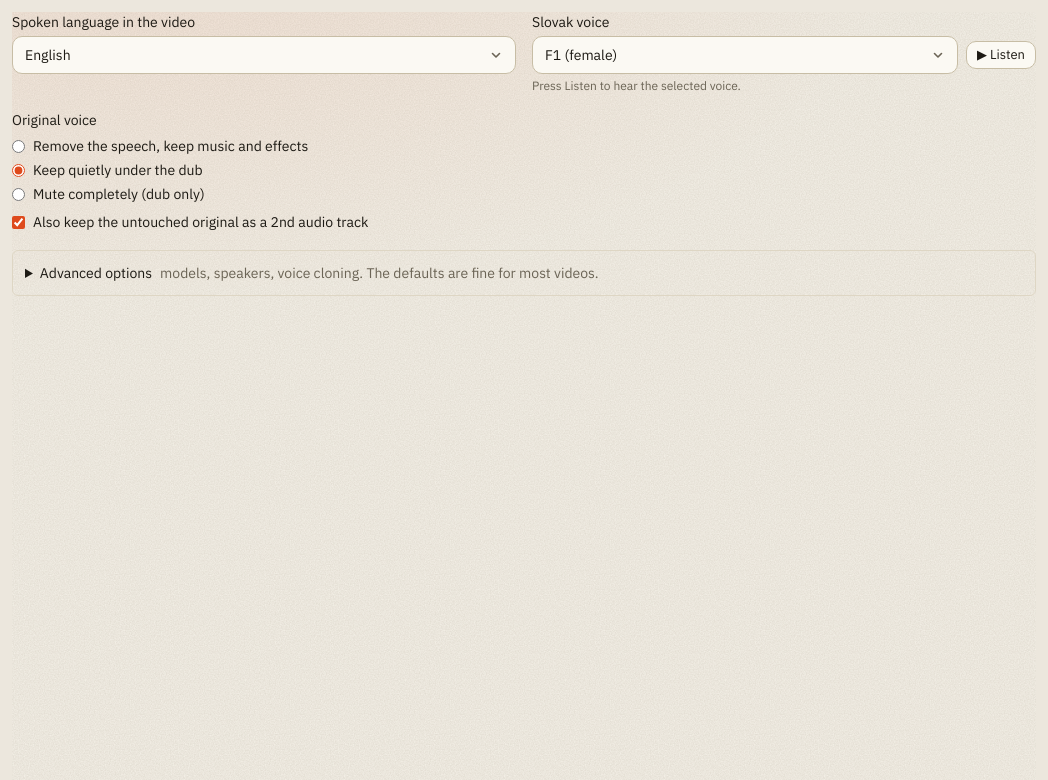
Test case: voice samples › explains when the voice model is missing
Click the button "▶ Listen" at (1001, 55), box [966,41,1036,69]
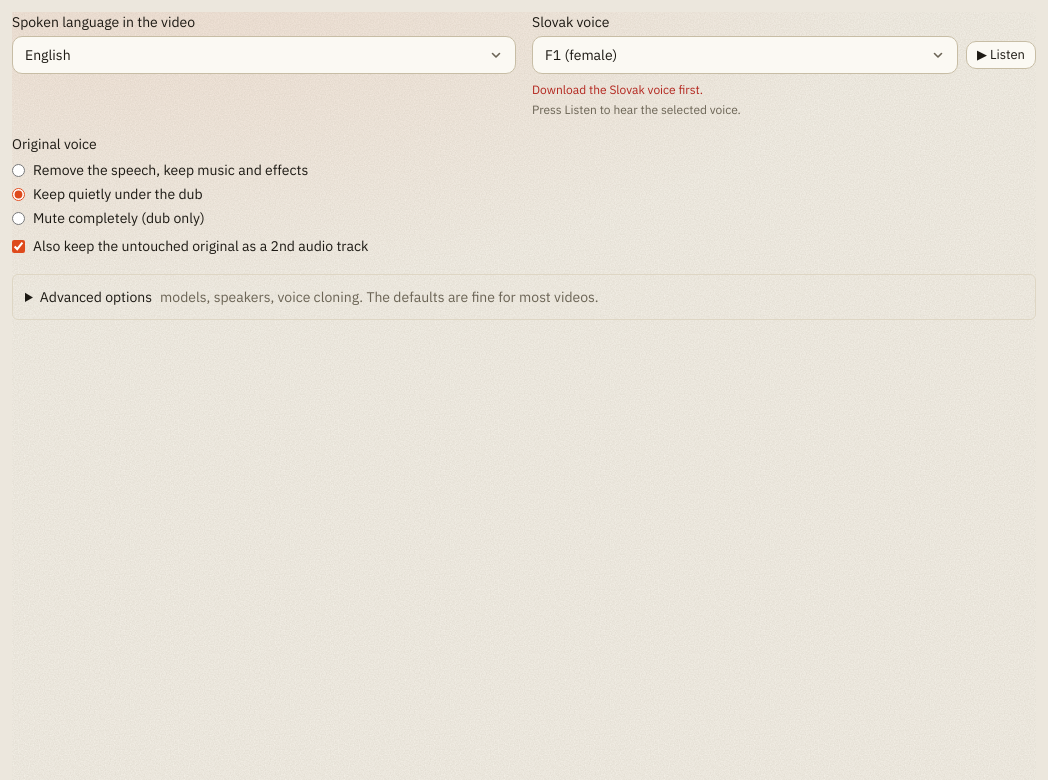
Check: the message reads "Download the Slovak voice first.", box [532,82,703,97]
